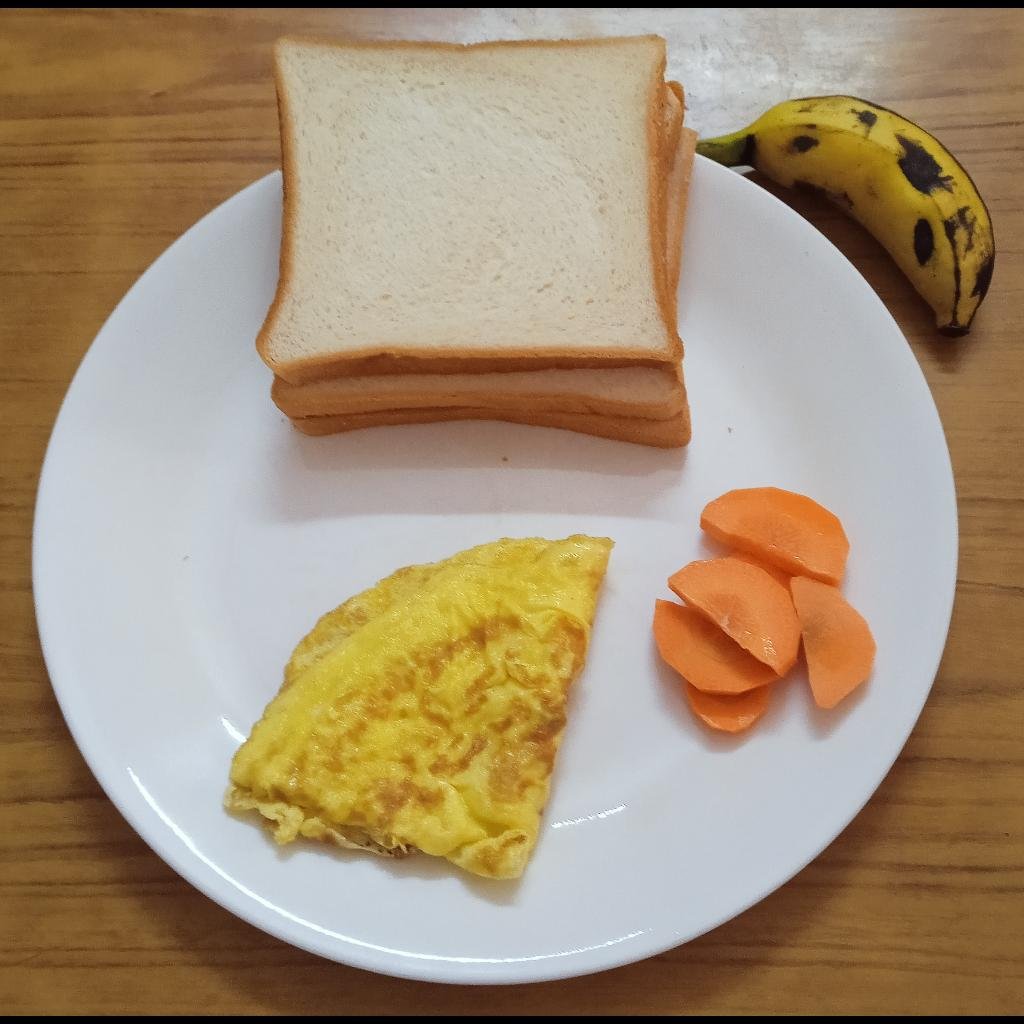banana: (700, 95, 994, 338)
bread: (251, 26, 697, 449)
carrot: (654, 487, 878, 733)
egg-poached: (222, 534, 616, 896)
